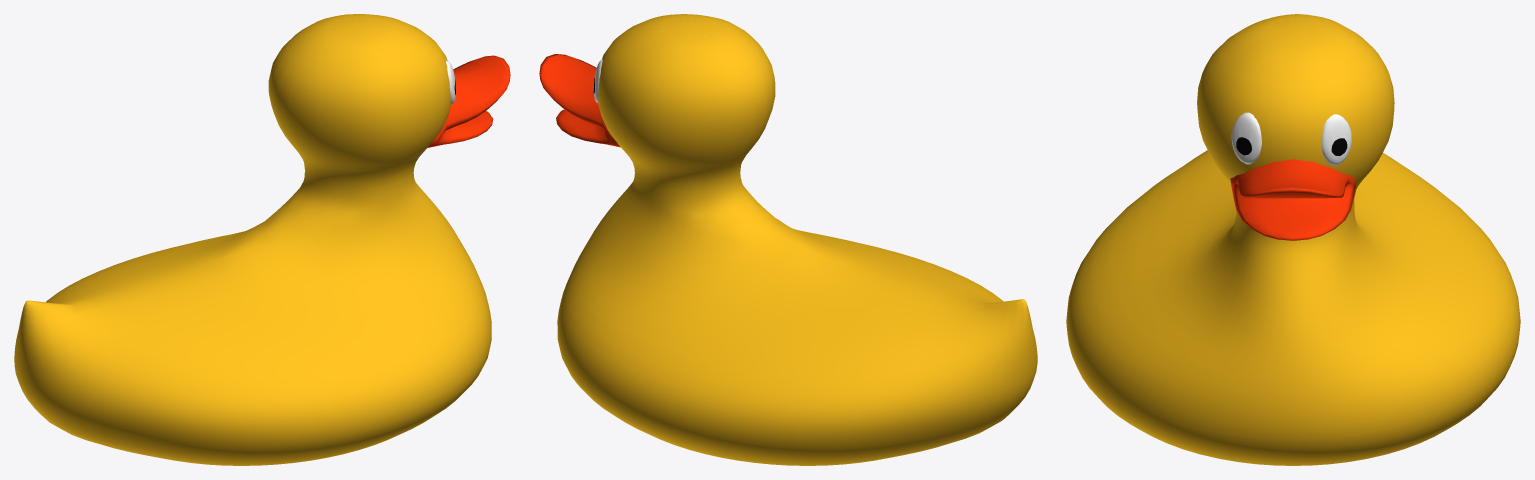
File: rubberduckie.obj
3 views of the same model, side by side, from view 1: azimuth 30°, elevation 25°; view 2: azimuth 150°, elevation 25°; view 3: azimuth 270°, elevation 25° (orthographic). The views are drawn at different scales.
Visible parts, largest first — view 1: RubberDuck, Beak; view 2: RubberDuck, Beak; view 3: RubberDuck, Beak, RightEye, LeftEye.
Part boxes in pixels (x1,y1,x2,y2): RubberDuck: [14, 14, 491, 465]; Beak: [427, 55, 510, 147]; RubberDuck: [557, 14, 1037, 465]; Beak: [539, 54, 620, 147]; RubberDuck: [1066, 14, 1520, 465]; Beak: [1230, 159, 1356, 240]; RightEye: [1231, 112, 1261, 164]; LeftEye: [1321, 114, 1351, 165].
Size of the model in its own units: 3.97 by 2.8 by 2.81.
